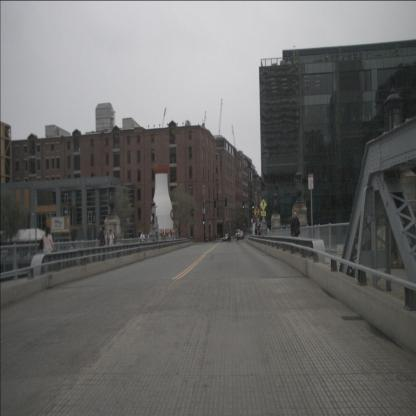human-pedestrian-adult: (39, 226, 56, 274), (291, 211, 300, 249), (97, 226, 106, 256), (108, 229, 115, 257), (104, 229, 109, 256), (140, 230, 145, 248), (162, 231, 166, 243), (236, 233, 239, 244), (206, 232, 209, 243), (218, 233, 221, 243), (228, 232, 231, 242), (214, 232, 216, 241)
vehicle-car: (222, 234, 231, 242), (235, 229, 241, 238), (239, 231, 244, 240)
